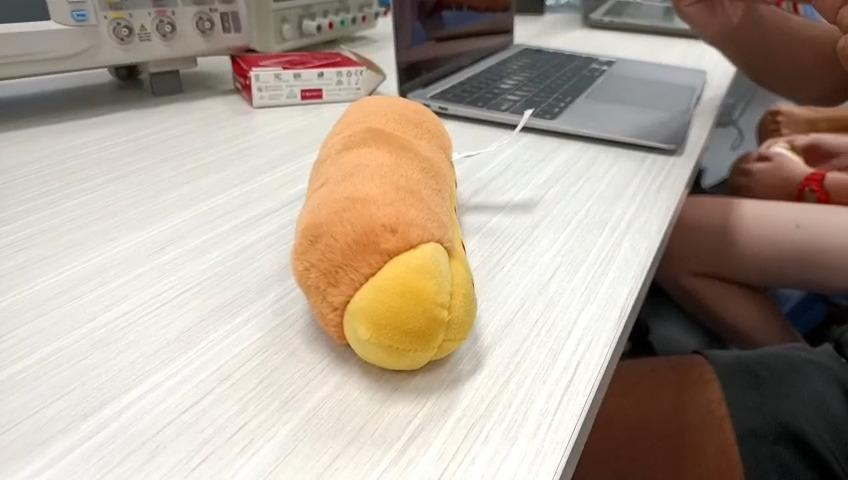hotdog: (292, 95, 478, 373)
